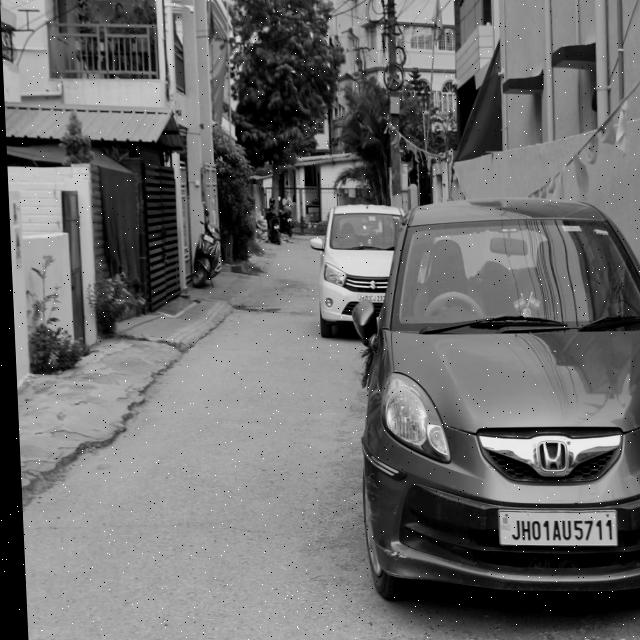bike: (187, 207, 228, 301), (260, 197, 281, 248), (276, 203, 294, 237)
car: (345, 182, 640, 628), (308, 188, 410, 341)
